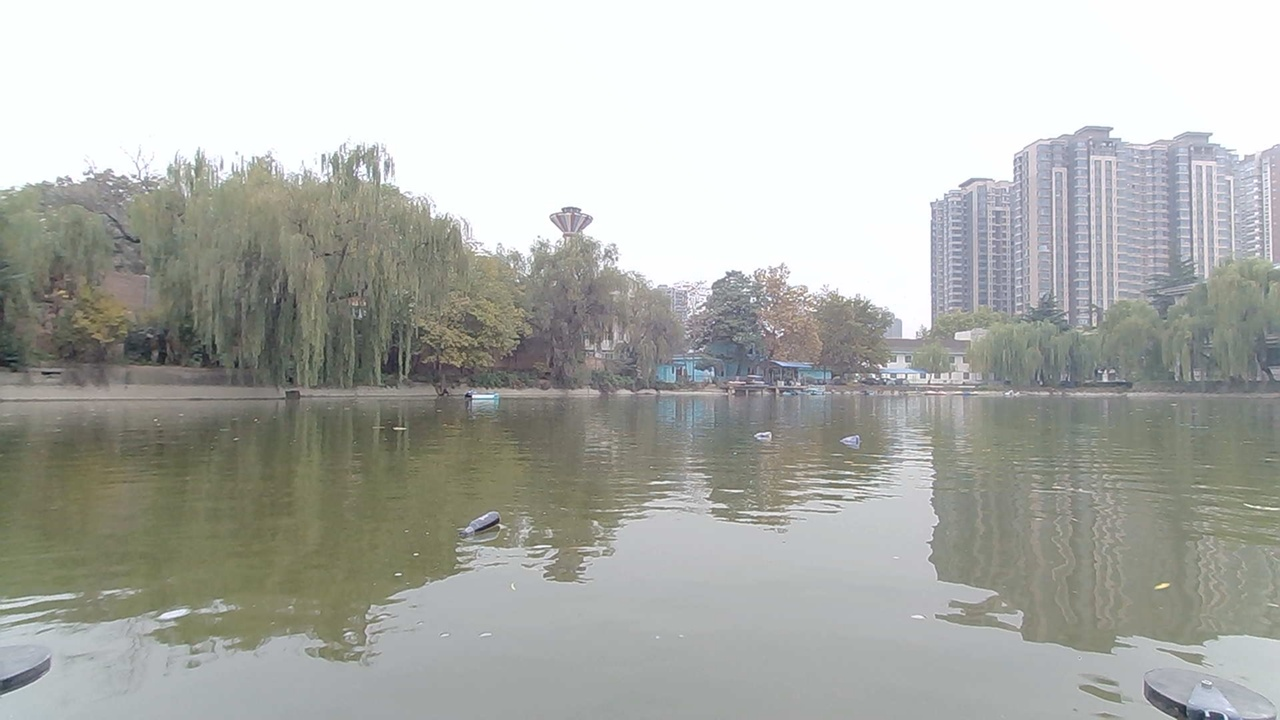bottle: (444, 496, 523, 546), (745, 420, 784, 446), (833, 433, 866, 450)
